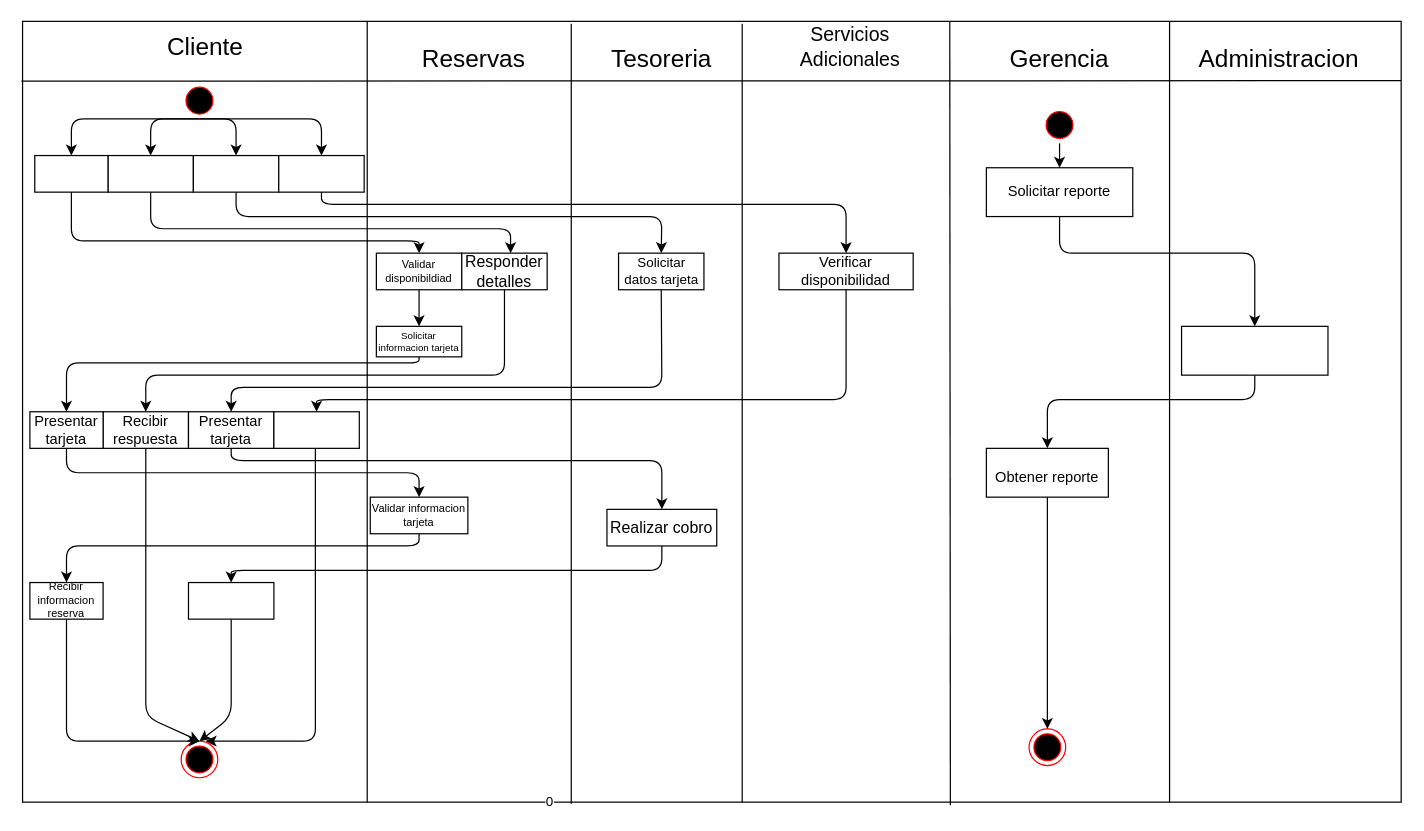
This 1424x831 diagram has some shape labels left out. Each missing label, with the centre of its shape:
"Consultar detalle habitacion" goes at (x=150, y=173).
"Consumir servicio" goes at (x=316, y=429).
"Generar reprote" goes at (x=1254, y=350).
"Pagar" goes at (x=235, y=173).
"Recibir comprobante y facturta" goes at (x=230, y=600).
"Reservar Habitacion" goes at (x=71, y=173).
"Solicitar servicio adicional" goes at (x=321, y=173).
